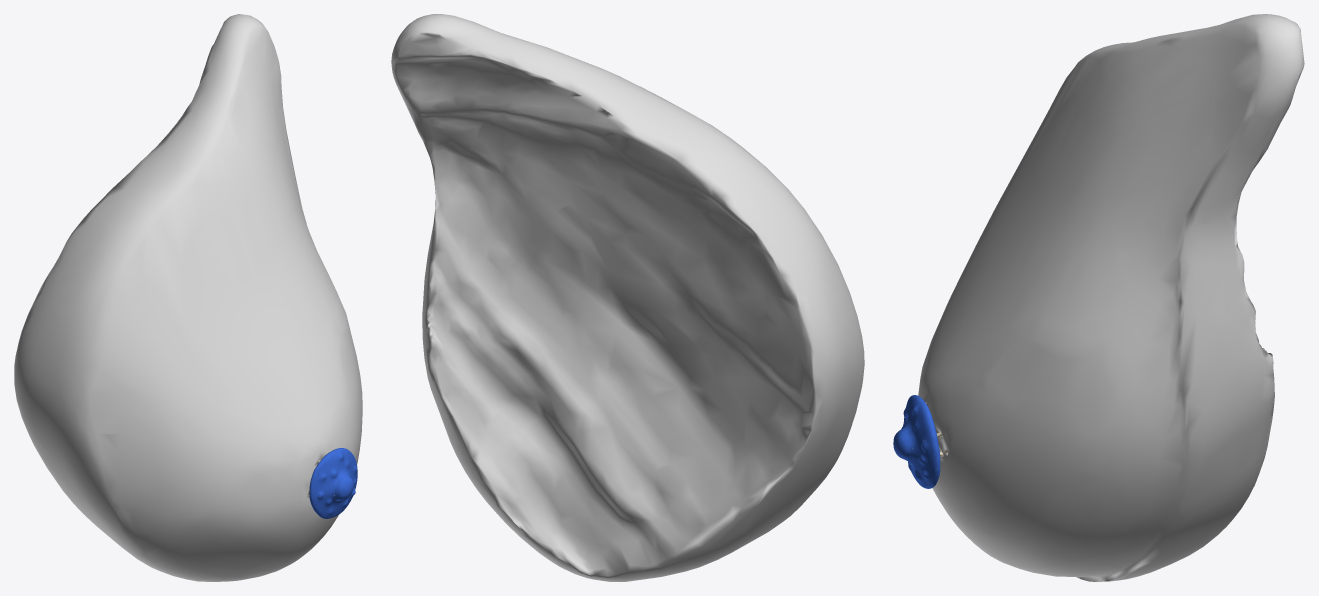
The model's file is 3d-vh-f-mammary-gland-l-40.fbx.
The picture shows the model from 3 angles, left to right: view 1: azimuth 30°, elevation 25°; view 2: azimuth 150°, elevation 25°; view 3: azimuth 270°, elevation 25°; orthographic projection. The views are drawn at different scales.
Visible parts, largest first — view 1: VH_F_fat_L, VH_F_areola_L; view 2: VH_F_fat_L; view 3: VH_F_fat_L, VH_F_areola_L, VH_F_nipple_L.
Boxes of the visible parts, <box> form: VH_F_fat_L: <box>14,14,362,581</box>; VH_F_areola_L: <box>309,448,357,518</box>; VH_F_fat_L: <box>391,14,864,581</box>; VH_F_fat_L: <box>918,14,1304,581</box>; VH_F_areola_L: <box>901,395,940,488</box>; VH_F_nipple_L: <box>893,426,913,463</box>.
Bounding box in the file's own units: 12.81 × 18.19 × 11.19.
